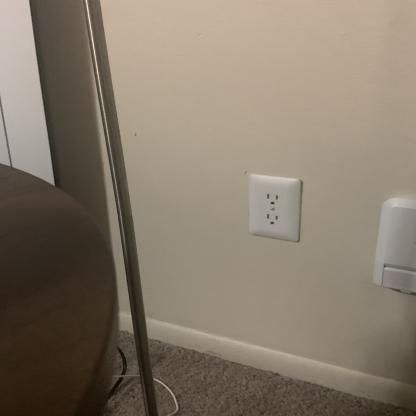OUTLET: (246, 173, 303, 242)
